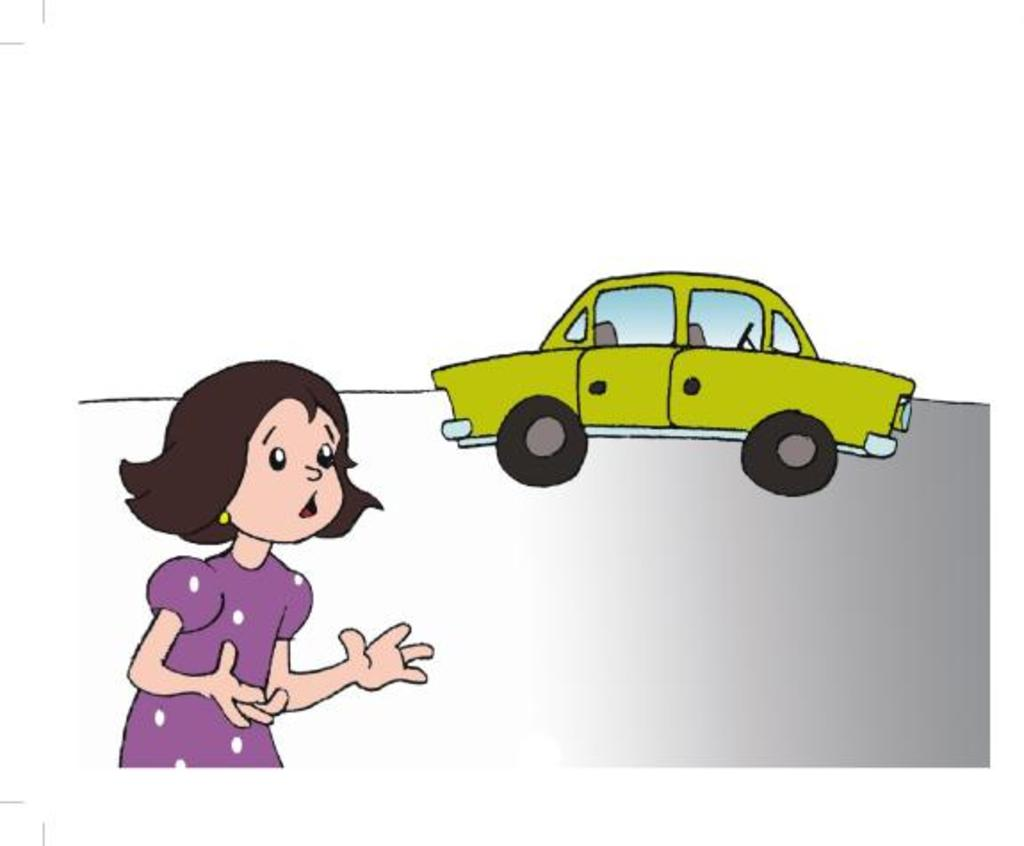cars: (431, 268, 915, 498)
